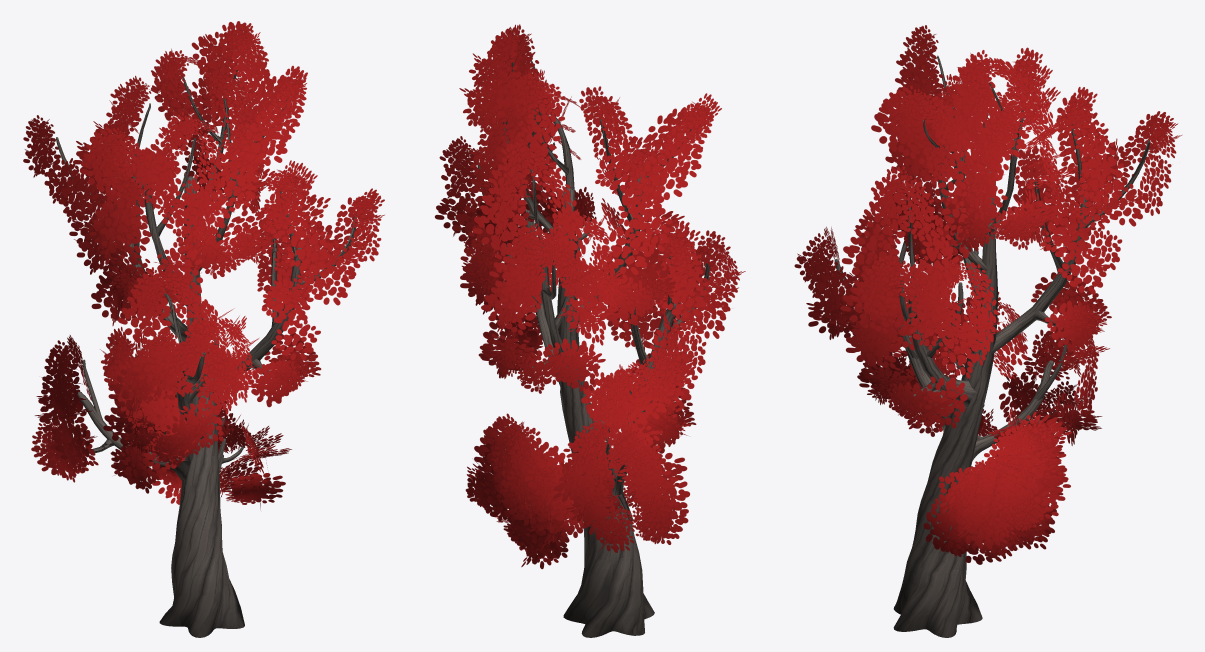
File: tree_twisted_2.glb
3 views of the same model, side by side, from view 1: azimuth 30°, elevation 25°; view 2: azimuth 150°, elevation 25°; view 3: azimuth 270°, elevation 25° (orthographic). The views are drawn at different scales.
Parts seen in each view (by area): view 1: TwistedTree_4; view 2: TwistedTree_4; view 3: TwistedTree_4.
Part boxes in pixels (x1,y1,x2,y2): TwistedTree_4: (23,21,384,637); TwistedTree_4: (435,24,745,637); TwistedTree_4: (794,25,1181,637).
Size of the model in its own units: 10.38 by 18.74 by 11.29.
Materials: 2 (2 with a texture image).
